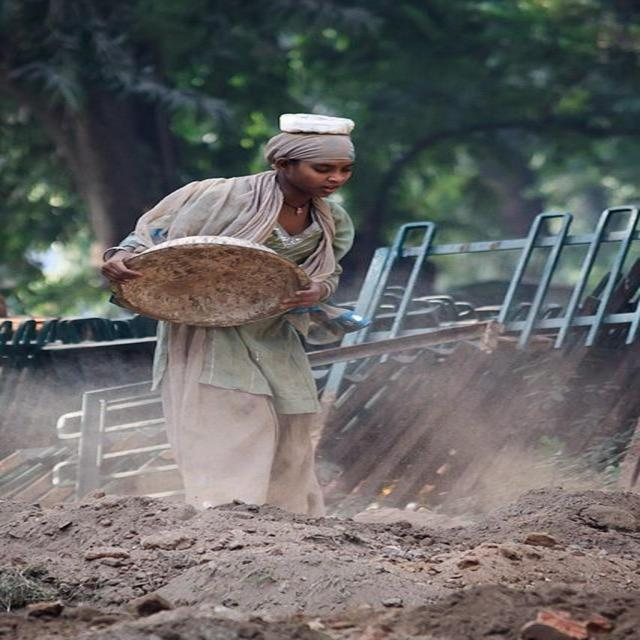nomask: (290, 138, 350, 196)
